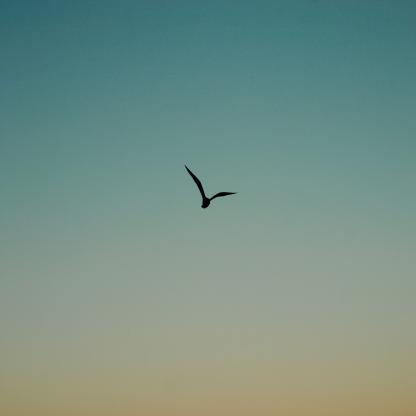bird: (185, 165, 238, 209)
